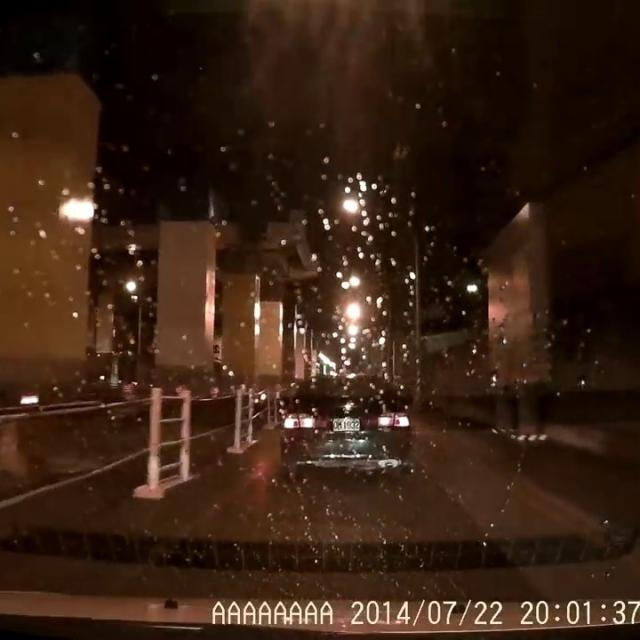Car: (280, 373, 415, 478)
